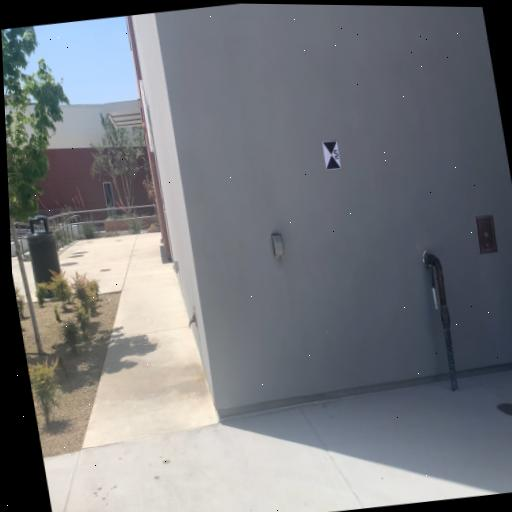target5: (322, 139, 341, 170)
